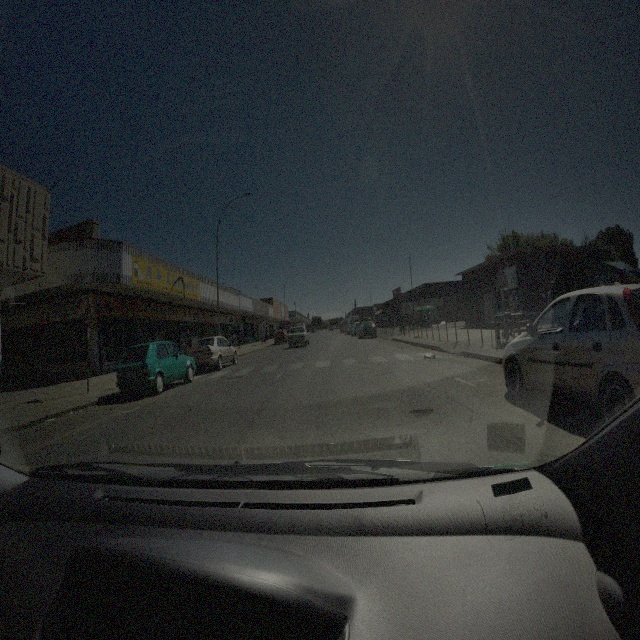pothole: (406, 405, 434, 420)
